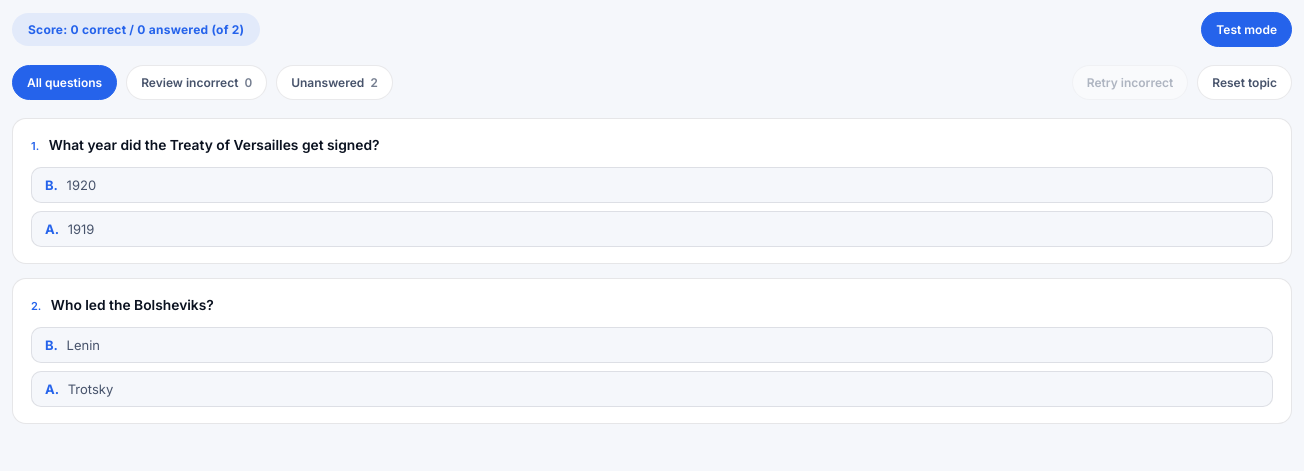
Test: QuizPanel › paints an incorrect pick and highlights the correct option
What coordinates should you click on to do the following:
click the button "B. 1920"
I would click on:
 (49, 185)
Its box is [31,167,1273,203].
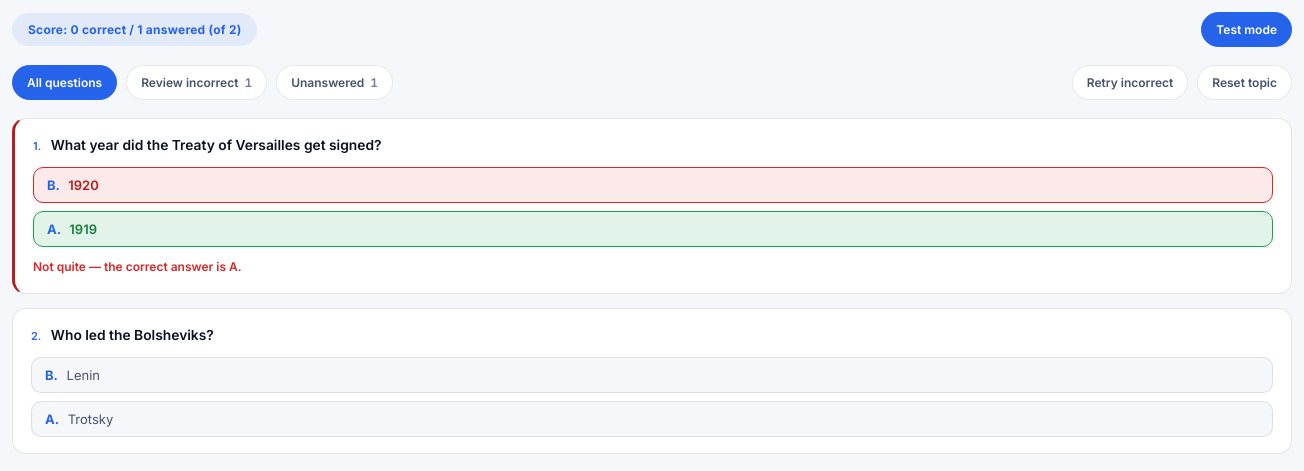
Expected: the text "Score: 0 correct / 1 answered (of 2)" is shown, [12,13,258,46]
Expected: the text "Not quite — the correct answer is A." is shown, [33,259,242,274]
